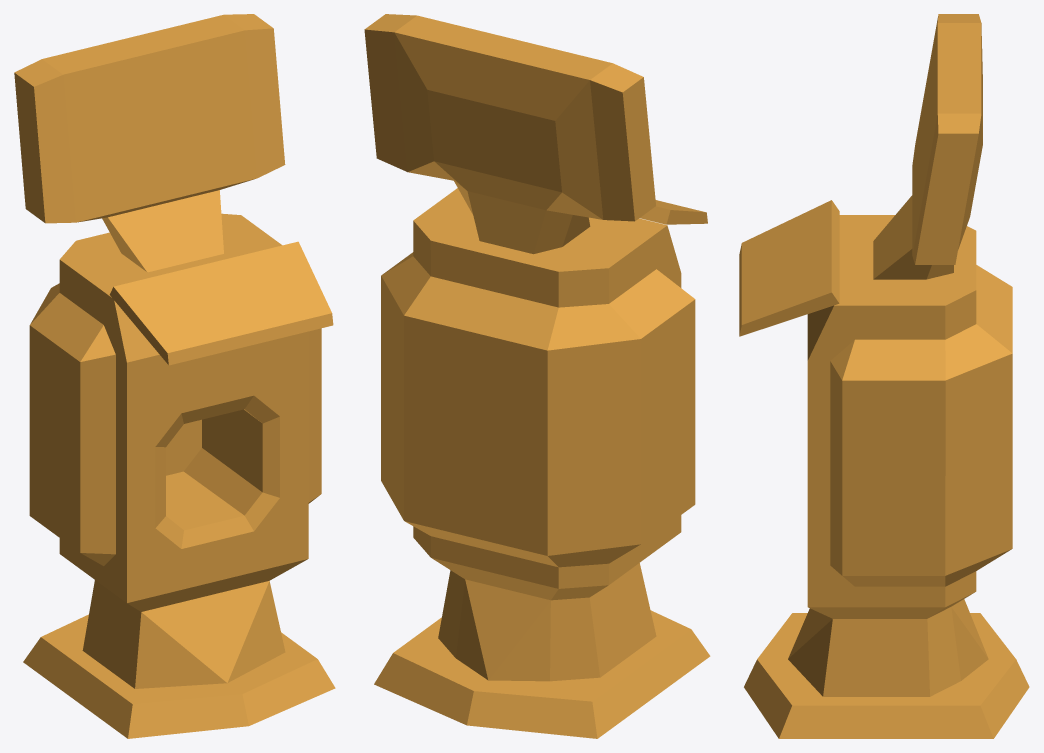
Rendered from scifi-chemistry-lab.fbx.
3 views of the same model, side by side, from view 1: azimuth 30°, elevation 25°; view 2: azimuth 150°, elevation 25°; view 3: azimuth 270°, elevation 25° (orthographic). The views are drawn at different scales.
Parts seen in each view (by area): view 1: scifi-chemistry-lab; view 2: scifi-chemistry-lab; view 3: scifi-chemistry-lab.
Boxes of the visible parts, x1=… form: scifi-chemistry-lab: x1=14, y1=14, x2=335, y2=738; scifi-chemistry-lab: x1=364, y1=14, x2=710, y2=738; scifi-chemistry-lab: x1=739, y1=14, x2=1029, y2=738.
Bounding box in the file's own units: 0.7111 × 1.7 × 0.7233.
